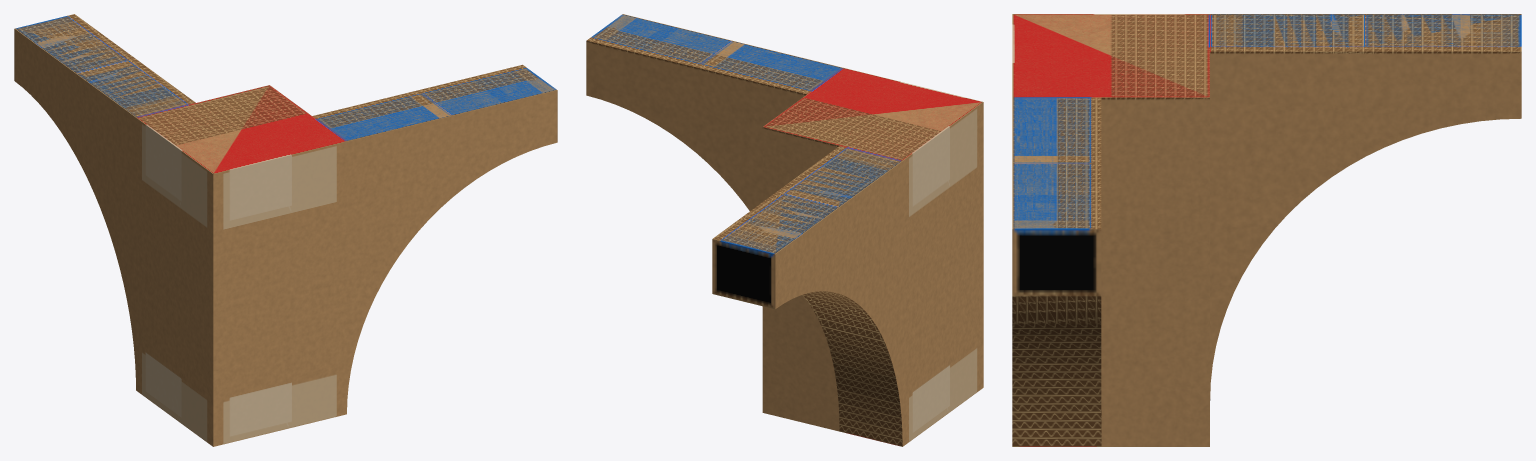
The model's file is 13-arches-front-left.fbx.
3 renders of one model, left to right at view 1: azimuth 30°, elevation 25°; view 2: azimuth 150°, elevation 25°; view 3: azimuth 270°, elevation 25°, orthographic. The views are drawn at different scales.
Visible parts, largest first — view 1: arches-front-left; view 2: arches-front-left; view 3: arches-front-left.
Part boxes in pixels (x1,y1,x2,y2): arches-front-left: (14,14,557,446); arches-front-left: (586,14,983,446); arches-front-left: (1012,14,1521,446).
Bounding box in the file's own units: 10300 × 7800 × 10300.
1 material, 1 textured.
